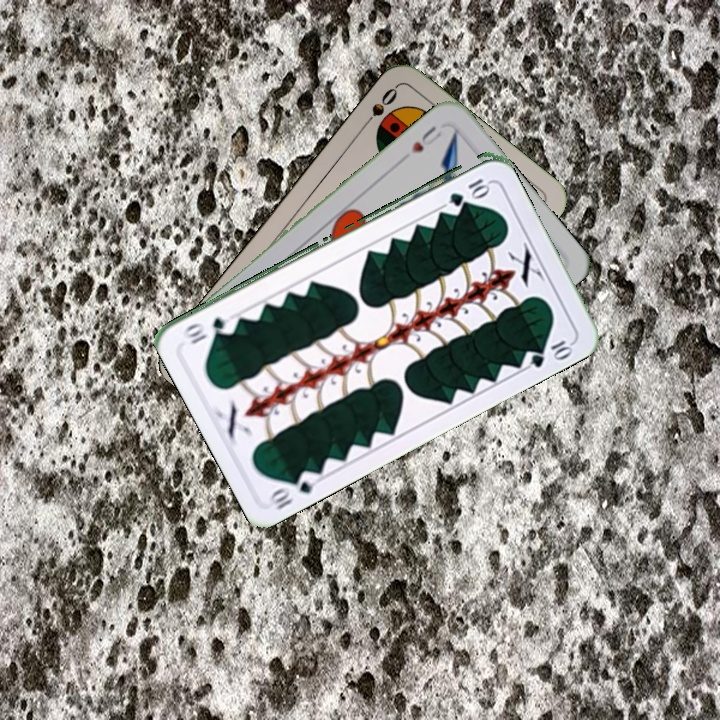G10: (265, 466, 322, 512), (444, 174, 491, 207)
HU: (407, 122, 445, 156)
SO: (357, 83, 401, 132)
